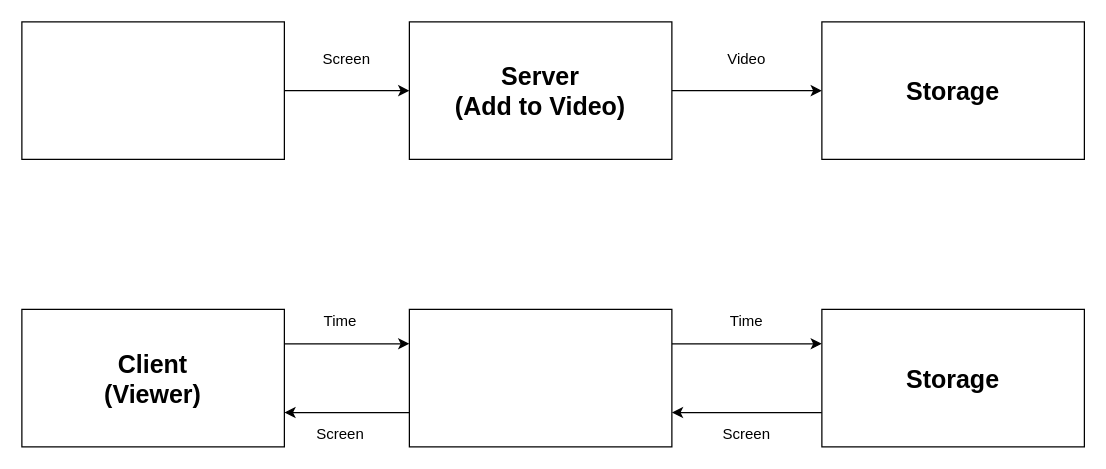
This 1106x469 diagram has some shape labels left out. The shapes that lost their labels are listed below. From the top down, each one's centre as x and y in pixels, then its label:
point 152,90: Client (Streamer)
point 540,377: Server
